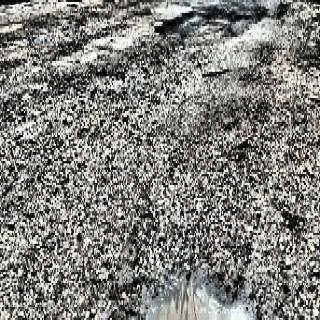pothole: (126, 249, 257, 320), (158, 2, 266, 64)
